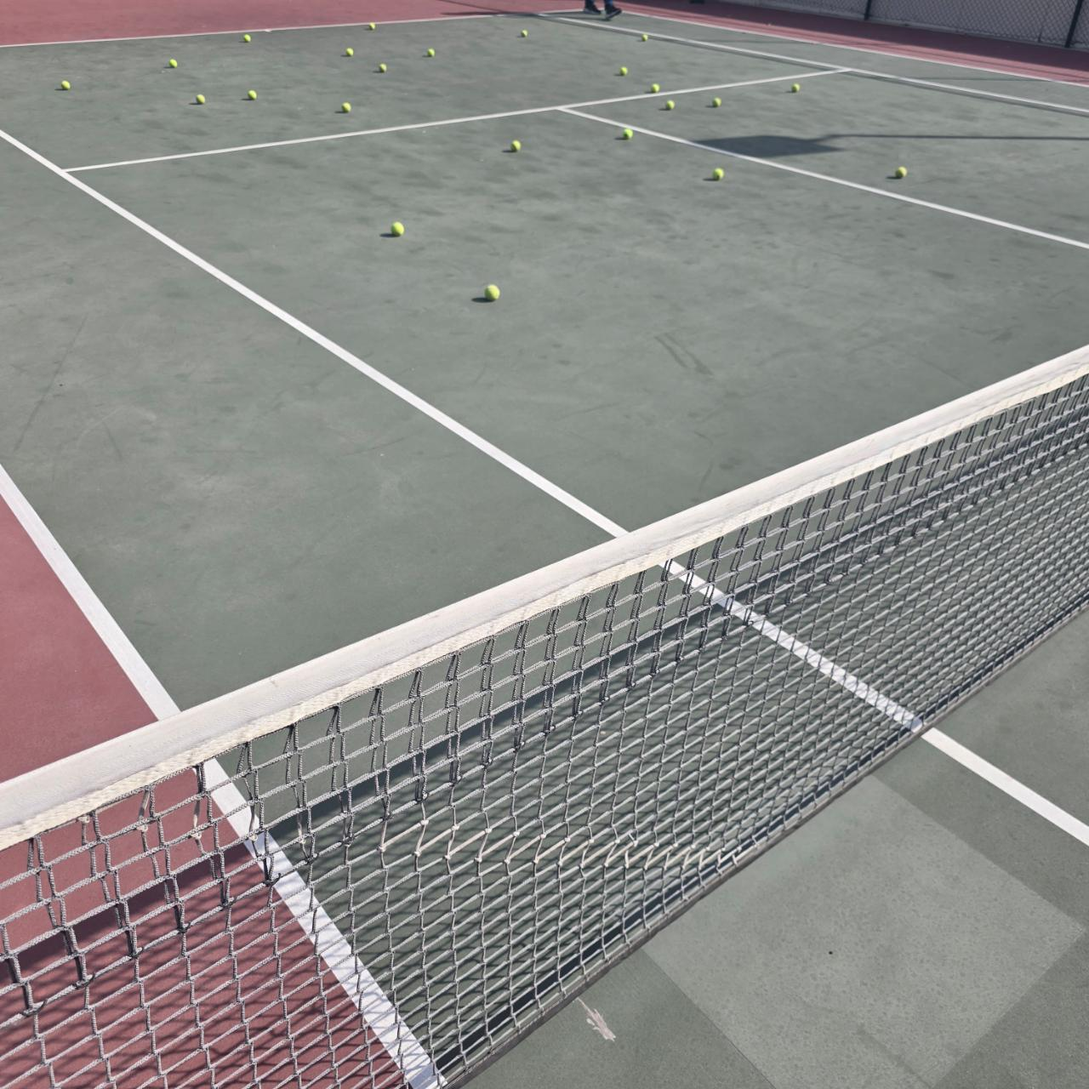tennis-ball: (483, 282, 500, 301), (390, 219, 404, 236), (711, 165, 723, 180), (894, 164, 906, 178), (59, 77, 71, 90)
